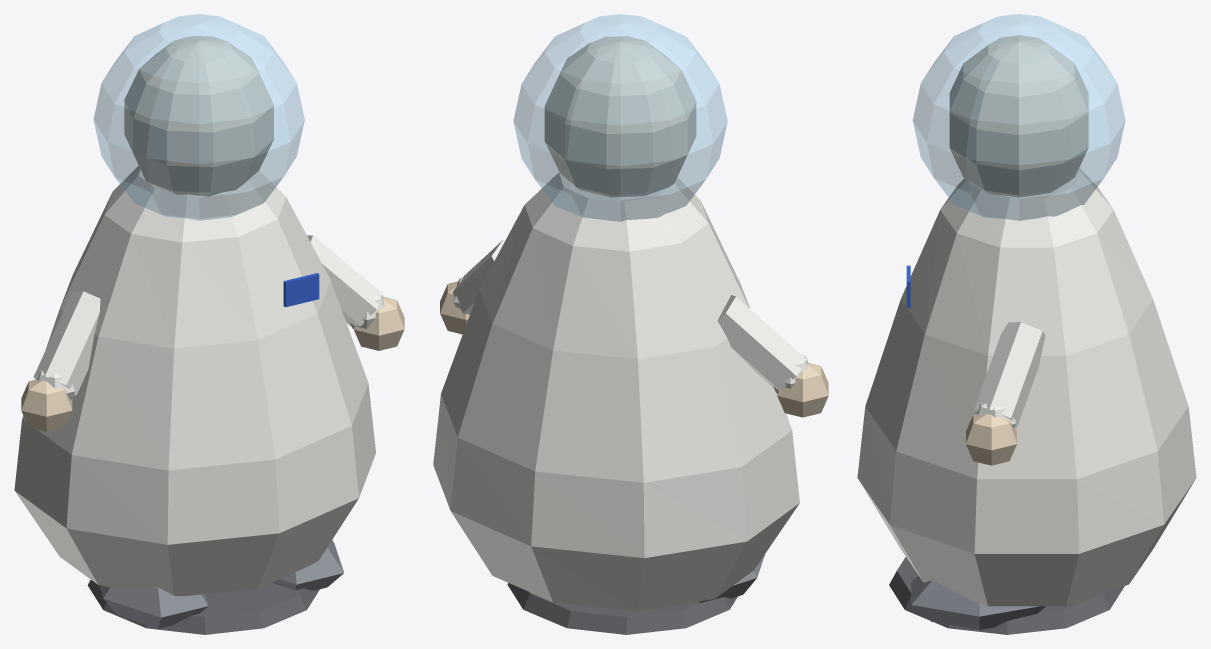
Rendered from mannequin_astronaut.glb.
3 renders of one model, left to right at view 1: azimuth 30°, elevation 25°; view 2: azimuth 150°, elevation 25°; view 3: azimuth 270°, elevation 25°, orthographic.
Visible parts, largest first — view 1: body_astro_white, helmet_astro_glass, head_mannequin_plastic, arms_astro_white, stand_mannequin_stand, legs_astro_boots, arms_mannequin_plastic, flag_astro_badge; view 2: body_astro_white, helmet_astro_glass, head_mannequin_plastic, arms_astro_white, stand_mannequin_stand, arms_mannequin_plastic, legs_astro_boots; view 3: body_astro_white, helmet_astro_glass, head_mannequin_plastic, arms_astro_white, stand_mannequin_stand, legs_astro_boots, arms_mannequin_plastic.
Boxes of the visible parts, x1=… form: body_astro_white: x1=14, y1=165, x2=375, y2=596; helmet_astro_glass: x1=93, y1=14, x2=304, y2=220; head_mannequin_plastic: x1=124, y1=36, x2=273, y2=196; arms_astro_white: x1=33, y1=235, x2=384, y2=400; stand_mannequin_stand: x1=87, y1=580, x2=319, y2=634; legs_astro_boots: x1=99, y1=540, x2=343, y2=628; arms_mannequin_plastic: x1=21, y1=297, x2=404, y2=431; flag_astro_badge: x1=283, y1=273, x2=319, y2=307; body_astro_white: x1=433, y1=172, x2=799, y2=611; helmet_astro_glass: x1=513, y1=14, x2=727, y2=221; head_mannequin_plastic: x1=544, y1=36, x2=696, y2=197; arms_astro_white: x1=452, y1=239, x2=808, y2=392; stand_mannequin_stand: x1=507, y1=583, x2=737, y2=634; arms_mannequin_plastic: x1=440, y1=281, x2=828, y2=417; legs_astro_boots: x1=697, y1=554, x2=764, y2=602; body_astro_white: x1=857, y1=168, x2=1196, y2=606; helmet_astro_glass: x1=913, y1=14, x2=1125, y2=220; head_mannequin_plastic: x1=949, y1=35, x2=1088, y2=197; arms_astro_white: x1=974, y1=322, x2=1045, y2=428; stand_mannequin_stand: x1=889, y1=557, x2=1124, y2=634; legs_astro_boots: x1=911, y1=575, x2=1045, y2=629; arms_mannequin_plastic: x1=966, y1=413, x2=1016, y2=465.
Bounding box in the file's own units: 1.13 × 1.58 × 0.86.
